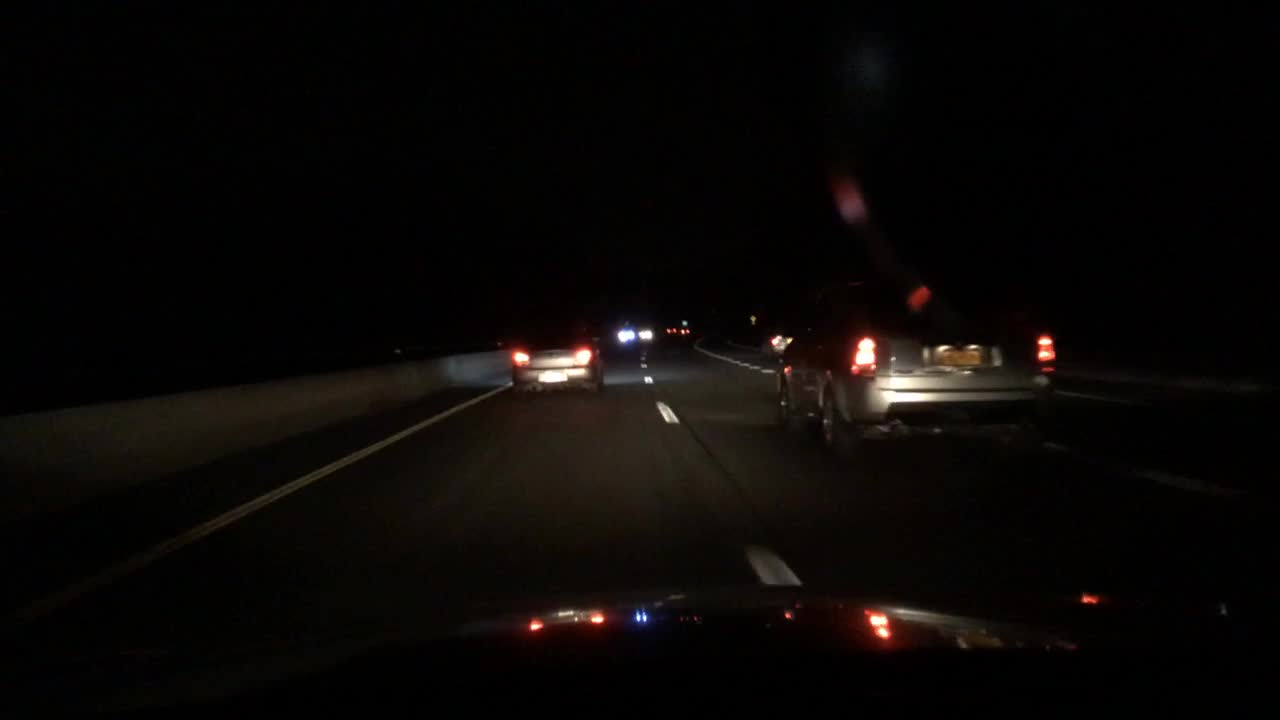car: (776, 283, 1061, 450), (507, 331, 606, 397), (614, 324, 651, 349), (665, 325, 689, 334)
